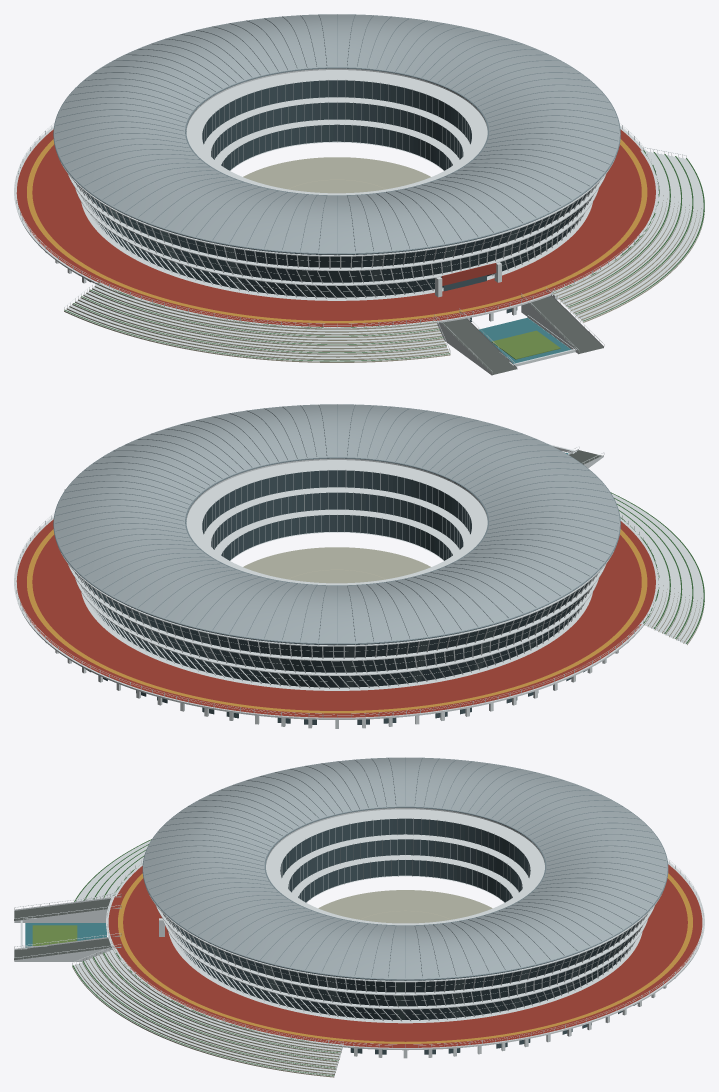
3 renders of one model, top to bottom at view 1: azimuth 30°, elevation 25°; view 2: azimuth 150°, elevation 25°; view 3: azimuth 270°, elevation 25°, orthographic. The views are drawn at different scales.
Parts seen in each view (by area): view 1: LibrarySmoothConvexMetalRoof, RedPromenadeRing, WalkableCurvedLandscapeSteps, SlopingLibraryGlassPanes, InnerCourtyardWindowWall, LandscapeStepVisibleRisers, LibraryRadialFoldedStandingSeams, SlenderAnnularFloorPlate, CourtyardPavedGround, WhiteLeaningFacadeBlades, WhiteContinuousStoreyBands, NarrowLandscapePlantingBeds (+18 smaller); view 2: LibrarySmoothConvexMetalRoof, RedPromenadeRing, SlopingLibraryGlassPanes, InnerCourtyardWindowWall, LibraryRadialFoldedStandingSeams, SlenderAnnularFloorPlate, WalkableCurvedLandscapeSteps, CourtyardPavedGround, WhiteLeaningFacadeBlades, WhiteContinuousStoreyBands, GoldPromenadeContinuousInlay, RaisedOpenArcadeDeck (+15 smaller); view 3: LibrarySmoothConvexMetalRoof, RedPromenadeRing, SlopingLibraryGlassPanes, InnerCourtyardWindowWall, WalkableCurvedLandscapeSteps, LibraryRadialFoldedStandingSeams, SlenderAnnularFloorPlate, LandscapeStepVisibleRisers, CourtyardPavedGround, WhiteLeaningFacadeBlades, WhiteContinuousStoreyBands, GoldPromenadeContinuousInlay (+18 smaller).
Part boxes in pixels (bbox=[...]): LibrarySmoothConvexMetalRoof: bbox=[54, 14, 619, 253]; RedPromenadeRing: bbox=[16, 129, 655, 326]; WalkableCurvedLandscapeSteps: bbox=[64, 150, 704, 361]; SlopingLibraryGlassPanes: bbox=[80, 187, 592, 297]; InnerCourtyardWindowWall: bbox=[202, 80, 471, 170]; LandscapeStepVisibleRisers: bbox=[64, 195, 704, 362]; LibraryRadialFoldedStandingSeams: bbox=[55, 14, 618, 251]; SlenderAnnularFloorPlate: bbox=[186, 70, 487, 282]; CourtyardPavedGround: bbox=[243, 157, 430, 193]; WhiteLeaningFacadeBlades: bbox=[74, 182, 599, 298]; WhiteContinuousStoreyBands: bbox=[68, 175, 605, 285]; NarrowLandscapePlantingBeds: bbox=[64, 150, 704, 361]; LibrarySmoothConvexMetalRoof: bbox=[54, 404, 619, 643]; RedPromenadeRing: bbox=[16, 519, 655, 717]; SlopingLibraryGlassPanes: bbox=[81, 578, 590, 687]; InnerCourtyardWindowWall: bbox=[202, 470, 471, 560]; LibraryRadialFoldedStandingSeams: bbox=[55, 404, 618, 642]; SlenderAnnularFloorPlate: bbox=[186, 460, 487, 672]; WalkableCurvedLandscapeSteps: bbox=[611, 493, 704, 644]; CourtyardPavedGround: bbox=[243, 547, 430, 583]; WhiteLeaningFacadeBlades: bbox=[75, 572, 599, 688]; WhiteContinuousStoreyBands: bbox=[68, 565, 605, 675]; GoldPromenadeContinuousInlay: bbox=[27, 529, 647, 713]; RaisedOpenArcadeDeck: bbox=[15, 514, 642, 690]; LibrarySmoothConvexMetalRoof: bbox=[143, 757, 667, 979]; RedPromenadeRing: bbox=[108, 864, 702, 1047]; SlopingLibraryGlassPanes: bbox=[169, 919, 641, 1019]; InnerCourtyardWindowWall: bbox=[280, 818, 530, 902]; WalkableCurvedLandscapeSteps: bbox=[72, 840, 342, 1076]; LibraryRadialFoldedStandingSeams: bbox=[144, 757, 666, 977]; SlenderAnnularFloorPlate: bbox=[266, 809, 544, 1006]; LandscapeStepVisibleRisers: bbox=[72, 897, 342, 1077]; CourtyardPavedGround: bbox=[318, 890, 492, 923]; WhiteLeaningFacadeBlades: bbox=[163, 914, 647, 1021]; WhiteContinuousStoreyBands: bbox=[156, 906, 654, 1008]; GoldPromenadeContinuousInlay: bbox=[118, 873, 692, 1043].
Size of the model in its own units: 179 by 23.73 by 186.
